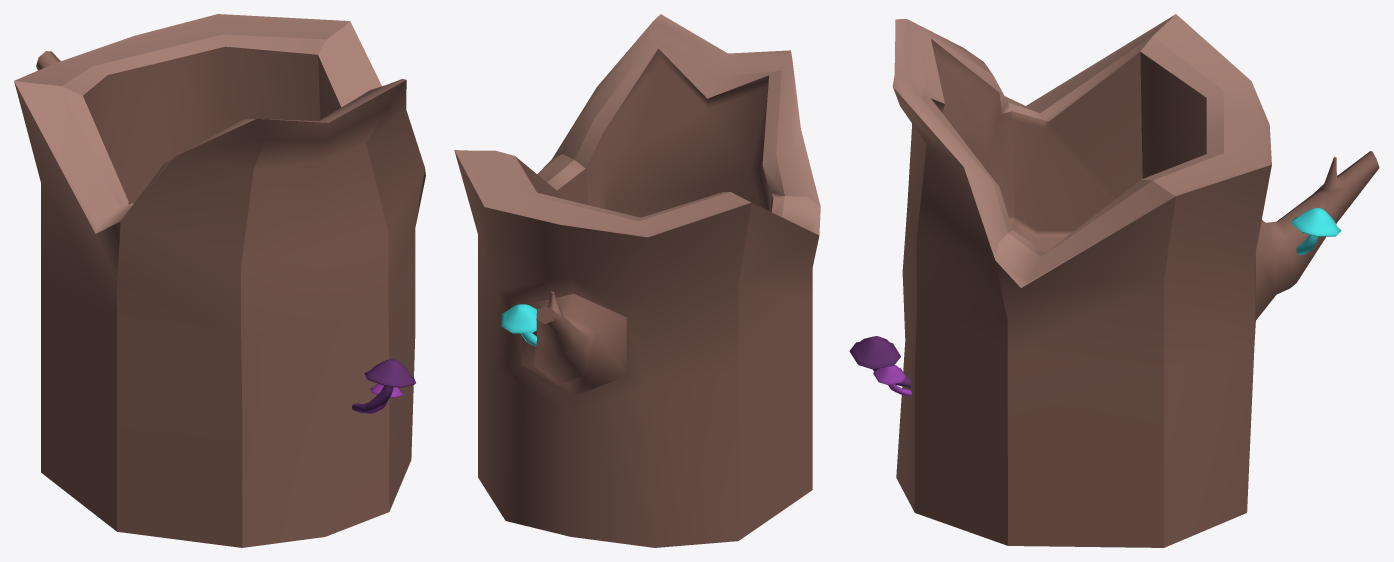
The model's file is Tree_trunk_01.fbx.
3 views of the same model, side by side, from view 1: azimuth 30°, elevation 25°; view 2: azimuth 150°, elevation 25°; view 3: azimuth 270°, elevation 25° (orthographic). The views are drawn at different scales.
Parts seen in each view (by area): view 1: champi_07; view 2: champi_07; view 3: champi_07.
Part boxes in pixels (x1,y1,x2,y2): champi_07: (14, 14, 425, 547); champi_07: (454, 14, 820, 547); champi_07: (849, 14, 1379, 547).
Size of the model in its own units: 1.08 by 1.35 by 1.51.
